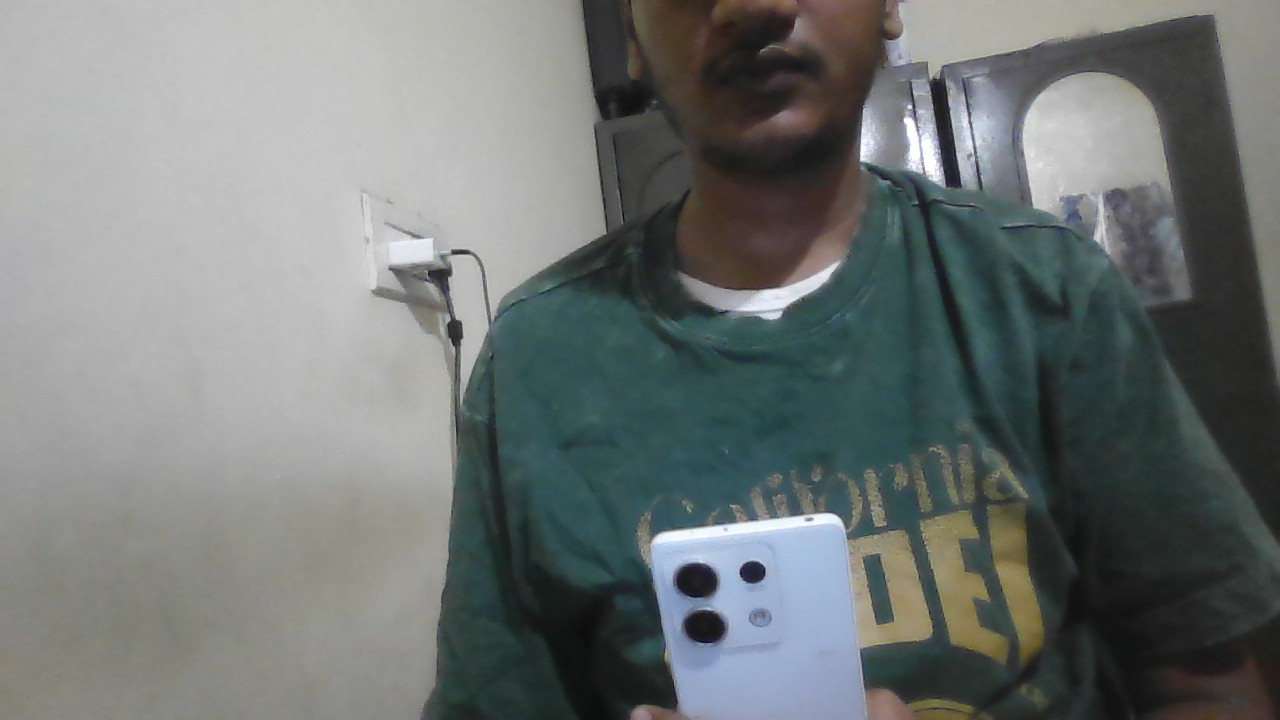phone: (647, 515, 861, 686)
